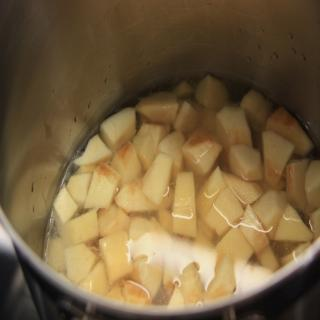Potato: (45, 74, 320, 306), (76, 164, 129, 214)
